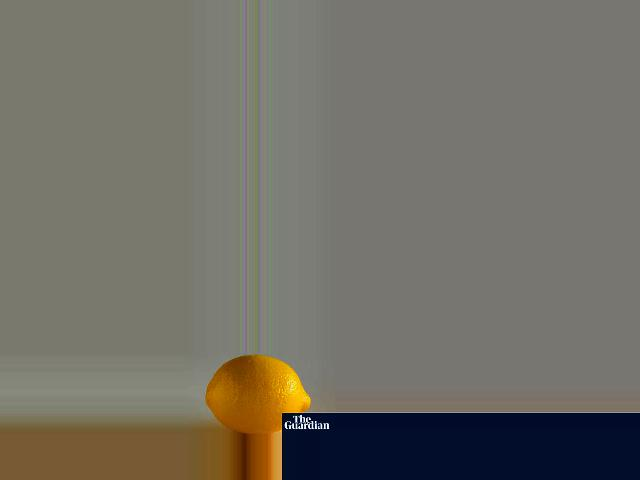lemon: (205, 354, 308, 434)
